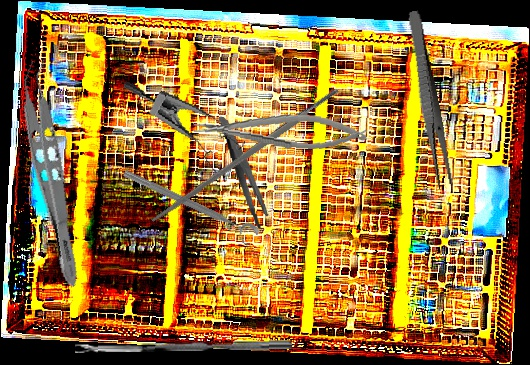Dressing Forceps: (402, 9, 455, 190), (218, 112, 270, 232)
Fixation Ring: (118, 166, 261, 249)
Needle Holder: (191, 104, 369, 156)
Scalpel Handle: (149, 86, 342, 226)
Speculum: (107, 79, 253, 179)
Surgical Spoon: (74, 339, 293, 353)
Tissue Forceps: (10, 57, 99, 290)
